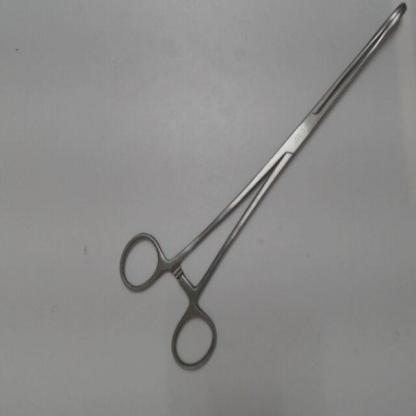Sponge Forceps: (112, 0, 414, 382)
